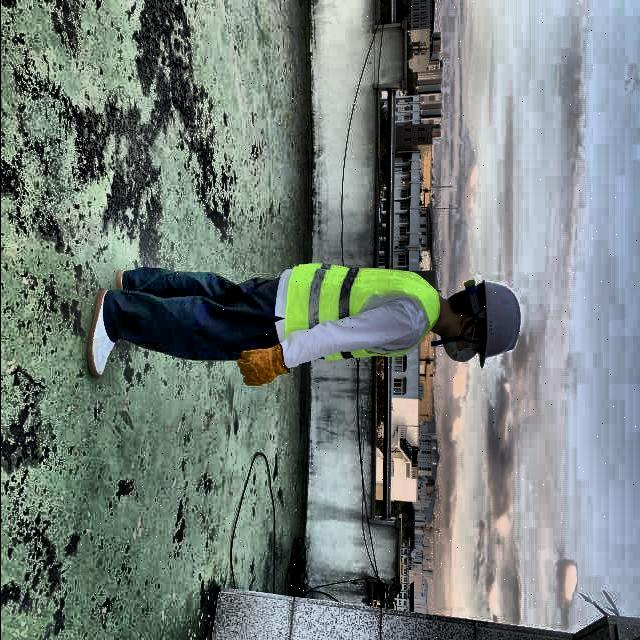gloved: (236, 344, 290, 388)
